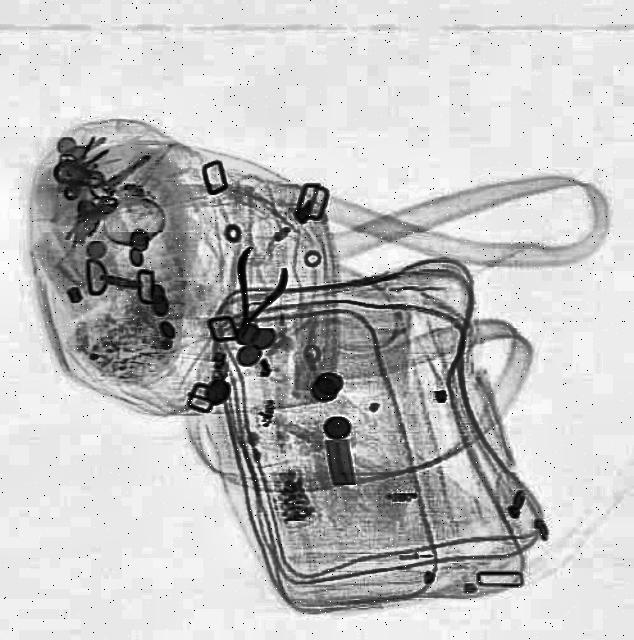Pliers: (217, 247, 297, 346)
